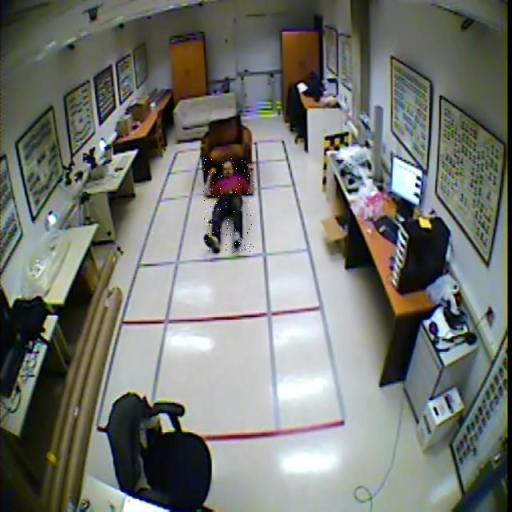Fall: (203, 157, 255, 253)
